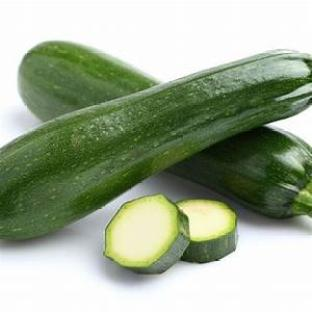Zucchini: (0, 50, 311, 239), (170, 127, 311, 217), (18, 42, 157, 120), (105, 195, 189, 273), (177, 200, 237, 263)
